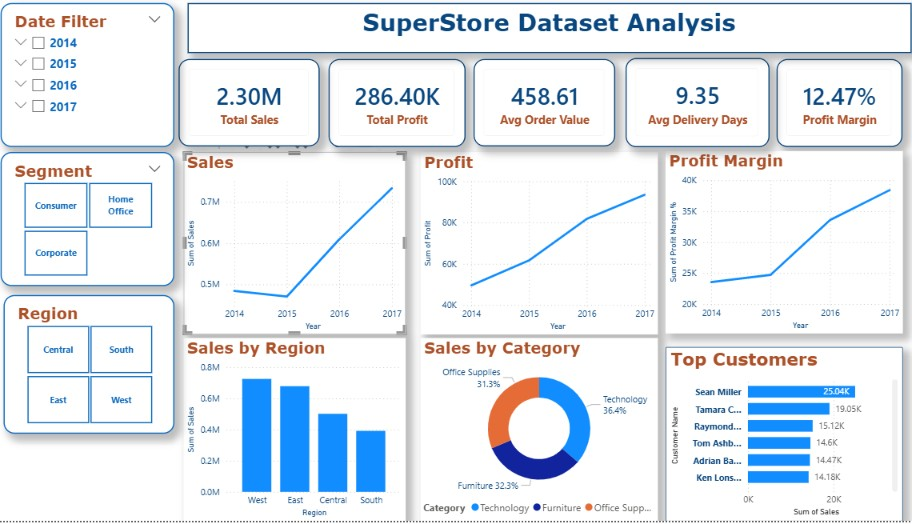

The page's visual inventory and layout, read from the dashboard file:
{"tool":"powerbi","page":{"name":"Overview","canvas":[1280,720],"ordinal":0},"visuals":[{"type":"lineChart","title":"Sales","fields":{"Y":["Sum(Sample - Superstore.Sales)"],"Category":["Sample - Superstore.Order Date.Variation.Date Hierarchy.Year","Sample - Superstore.Order Date.Variation.Date Hierarchy.Quarter","Sample - Superstore.Order Date.Variation.Date Hierarchy.Month","Sample - Superstore.Order Date.Variation.Date Hierarchy.Day"]},"box":[271.6,214.1,304.1,250],"z":0},{"type":"lineChart","title":" Profit ","fields":{"Y":["Sum(Sample - Superstore.Profit)"],"Category":["Sample - Superstore.Order Date.Variation.Date Hierarchy.Year","Sample - Superstore.Order Date.Variation.Date Hierarchy.Quarter","Sample - Superstore.Order Date.Variation.Date Hierarchy.Month","Sample - Superstore.Order Date.Variation.Date Hierarchy.Day"]},"box":[597.3,214.1,325.7,250],"z":1000},{"type":"cardVisual","fields":{"Data":["Sample - Superstore.Profit Margin % 1"]},"box":[1085.4,86.4,172.9,120.8],"z":2000},{"type":"lineChart","title":"Profit Margin ","fields":{"Y":["Sum(Sample - Superstore.Profit Margin %)"],"Category":["Sample - Superstore.Order Date.Variation.Date Hierarchy.Year","Sample - Superstore.Order Date.Variation.Date Hierarchy.Quarter","Sample - Superstore.Order Date.Variation.Date Hierarchy.Month","Sample - Superstore.Order Date.Variation.Date Hierarchy.Day"]},"box":[932.4,212.8,325.7,250],"z":3000},{"type":"cardVisual","fields":{"Data":["Sample - Superstore.Total Profit"]},"box":[470.1,86.4,188,120.8],"z":4000},{"type":"cardVisual","fields":{"Data":["Sample - Superstore.Avg Delivery Days"]},"box":[878.2,85.1,197.6,122.1],"z":5000},{"type":"textbox","box":[277,9.5,993.2,68.9],"z":6000},{"type":"cardVisual","fields":{"Data":["Sample - Superstore.-- Returns the total sales amount across all transactionsTotal Sales"]},"box":[265.4,87,193.2,120.3],"z":7000},{"type":"cardVisual","fields":{"Data":["Sample - Superstore.-- Calculates average revenue generated per orderAverage Order Value"]},"box":[669,87,194.6,120.3],"z":8000},{"type":"columnChart","title":"Sales by Region","fields":{"Y":["Sum(Sample - Superstore.Sales)"],"Category":["Sample - Superstore.Region"]},"box":[271.7,469.3,304.6,251.1],"z":9000},{"type":"donutChart","title":"Sales by Category","fields":{"Y":["Sum(Sample - Superstore.Sales)"],"Category":["Sample - Superstore.Category"]},"box":[597.3,468.9,325.7,251.4],"z":10000},{"type":"clusteredBarChart","title":"Top Customers","fields":{"Category":["Sample - Superstore.Customer Name"],"Y":["Sum(Sample - Superstore.Sales)"]},"box":[932.4,481.1,325.7,239.2],"z":11000},{"type":"slicer","fields":{"Values":["Sample - Superstore.Order Date.Variation.Date Hierarchy.Year","Sample - Superstore.Order Date.Variation.Date Hierarchy.Month","Sample - Superstore.Order Date.Variation.Date Hierarchy.Day"]},"box":[20.6,9.6,238.8,197.6],"z":12000},{"type":"slicer","fields":{"Values":["Sample - Superstore.Segment"]},"box":[20.6,214.1,238.8,183.9],"z":13000},{"type":"slicer","fields":{"Values":["Sample - Superstore.Region"]},"box":[24.7,410.3,234.6,190.7],"z":14000}]}

Visuals, with their boxes in screenshot pixels (x1, y1, x2, y2), scaled from the page's 1280x720 canvas onto the 912x524 screenshot:
"Sales" lineChart: (x1=194, y1=156, x2=410, y2=338)
" Profit " lineChart: (x1=426, y1=156, x2=658, y2=338)
cardVisual - Sample - Superstore.Profit Margin % 1: (x1=773, y1=63, x2=897, y2=151)
"Profit Margin " lineChart: (x1=664, y1=155, x2=896, y2=337)
cardVisual - Sample - Superstore.Total Profit: (x1=335, y1=63, x2=469, y2=151)
cardVisual - Sample - Superstore.Avg Delivery Days: (x1=626, y1=62, x2=767, y2=151)
textbox: (x1=197, y1=7, x2=905, y2=57)
cardVisual - Sample - Superstore.-- Returns the total sales amount across all transactionsTotal Sales: (x1=189, y1=63, x2=327, y2=151)
cardVisual - Sample - Superstore.-- Calculates average revenue generated per orderAverage Order Value: (x1=477, y1=63, x2=615, y2=151)
"Sales by Region" columnChart: (x1=194, y1=342, x2=411, y2=523)
"Sales by Category" donutChart: (x1=426, y1=341, x2=658, y2=523)
"Top Customers" clusteredBarChart: (x1=664, y1=350, x2=896, y2=523)
slicer - Sample - Superstore.Order Date.Variation.Date Hierarchy.Year x Sample - Superstore.Order Date.Variation.Date Hierarchy.Month: (x1=15, y1=7, x2=185, y2=151)
slicer - Sample - Superstore.Segment: (x1=15, y1=156, x2=185, y2=290)
slicer - Sample - Superstore.Region: (x1=18, y1=299, x2=185, y2=437)
